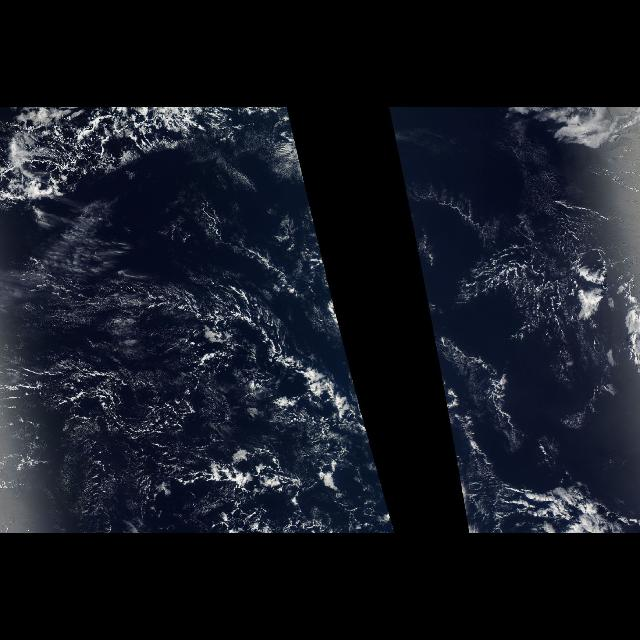Fish: (1, 107, 283, 209)
Gravel: (44, 296, 322, 514)
Sugar: (5, 229, 372, 533)
